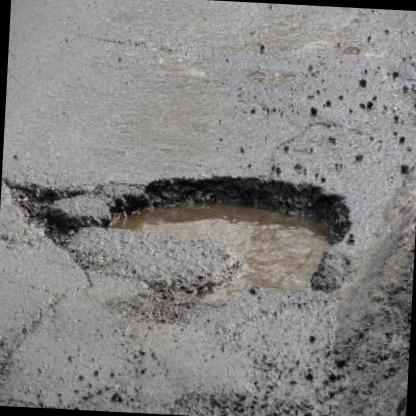pothole: (95, 166, 358, 312), (0, 178, 94, 252)
